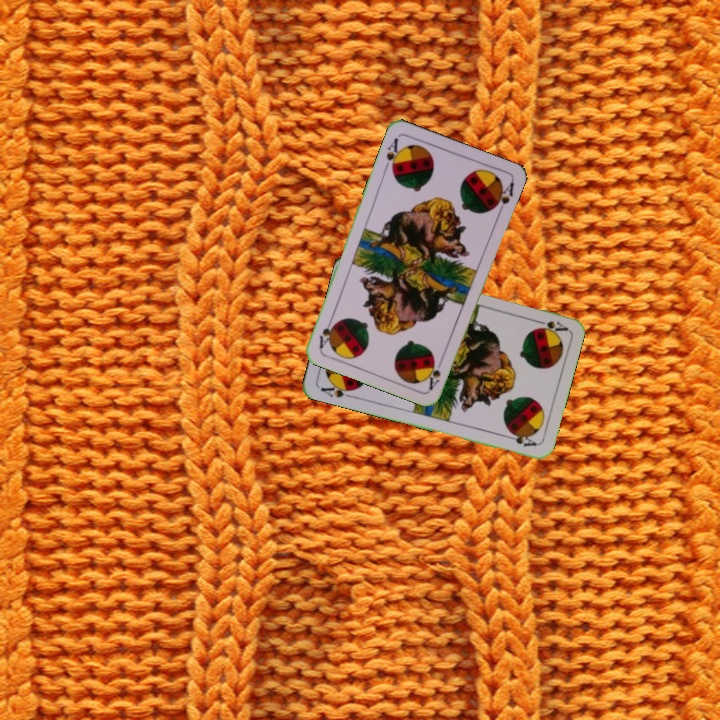SA: (380, 134, 404, 175), (316, 379, 358, 401), (529, 315, 570, 334), (425, 356, 443, 392)
